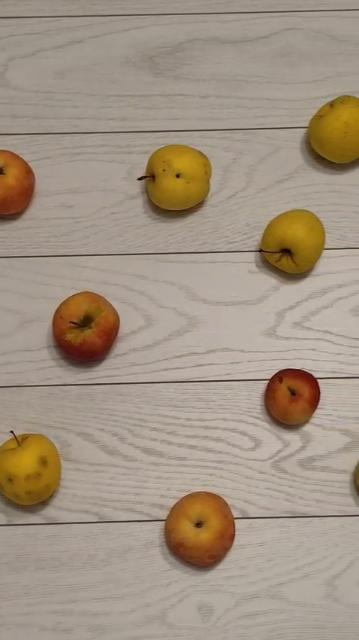apple_green: (139, 145, 211, 210), (259, 209, 326, 273), (1, 434, 58, 502), (307, 95, 359, 164)
apple_red: (164, 490, 236, 566), (50, 291, 119, 361), (265, 368, 321, 425), (0, 149, 35, 215)
